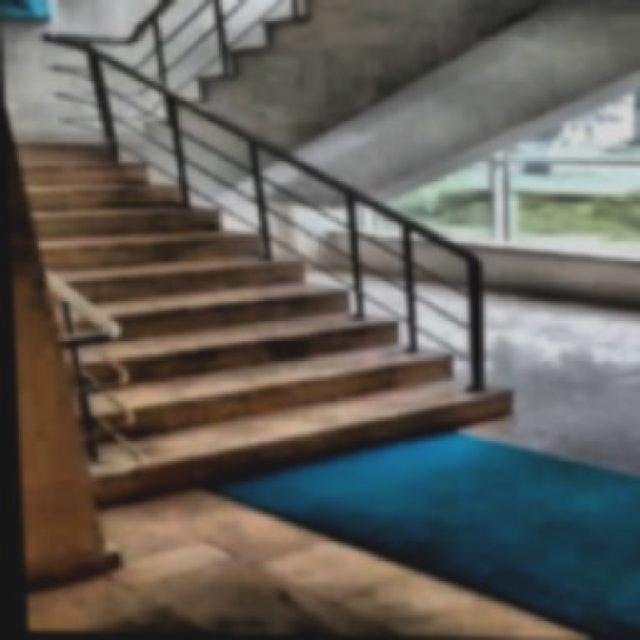stair: (7, 94, 564, 543)
